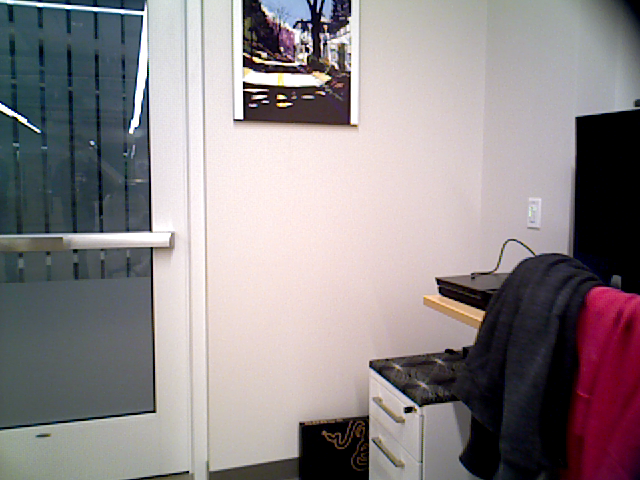painting3: (233, 1, 358, 126)
